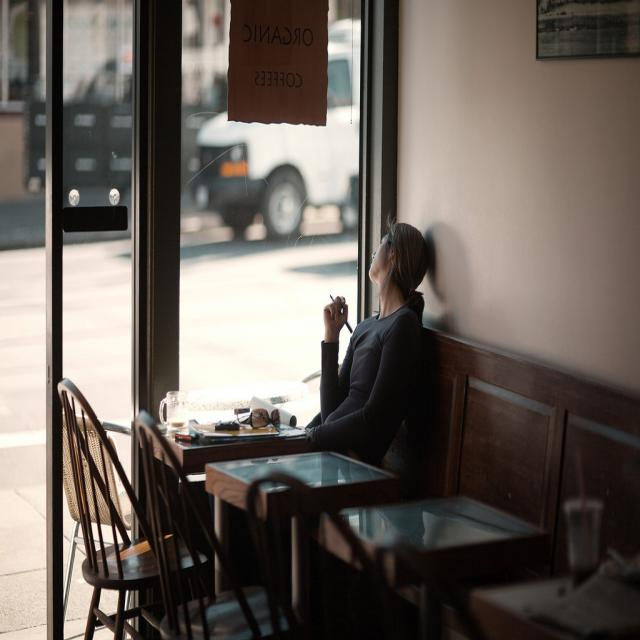chair: (59, 377, 170, 636), (133, 416, 260, 636)
desk: (205, 450, 397, 625)
person: (303, 217, 433, 479)
